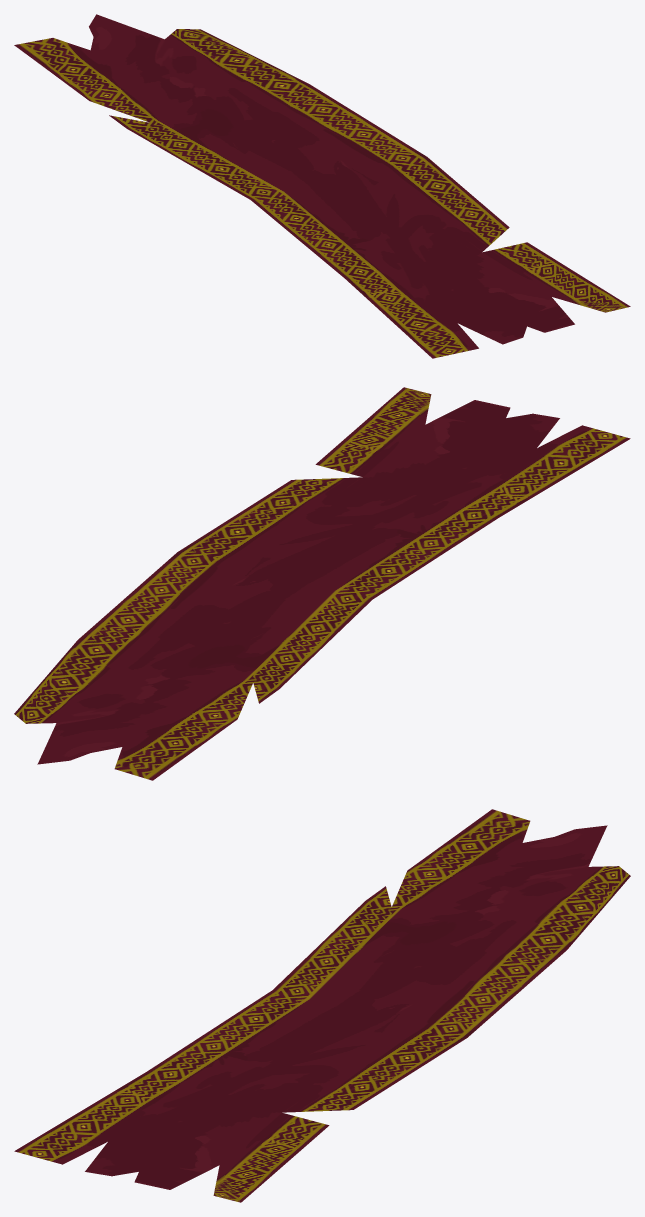
The model's file is SM_PROP_rug_dungeon_02.fbx.
3 views of the same model, one above another, from view 1: azimuth 30°, elevation 25°; view 2: azimuth 150°, elevation 25°; view 3: azimuth 330°, elevation 25° (orthographic). The views are drawn at different scales.
Parts seen in each view (by area): view 1: SM_PROP_rug_dungeon_02; view 2: SM_PROP_rug_dungeon_02; view 3: SM_PROP_rug_dungeon_02.
Boxes of the visible parts, box(x1,y1,x2,y2) form: SM_PROP_rug_dungeon_02: box(14, 14, 630, 358); SM_PROP_rug_dungeon_02: box(14, 387, 630, 780); SM_PROP_rug_dungeon_02: box(14, 809, 630, 1202).
Bounding box in the file's own units: 261 × 0 × 979.
